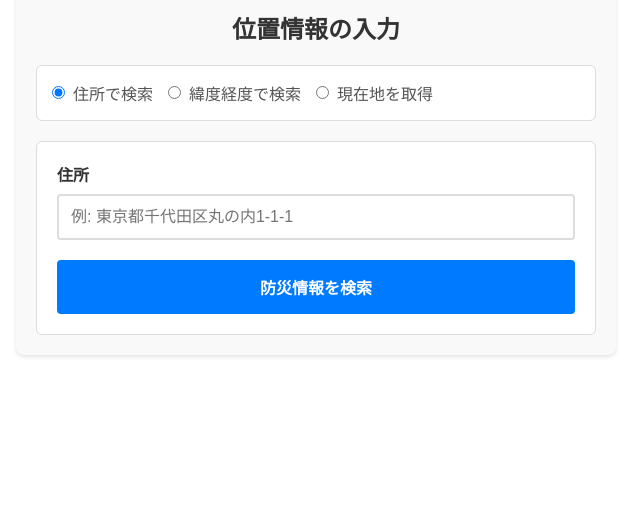
LocationInputComponent › 緯度経度入力のバリデーション › 無効な緯度でエラーメッセージが表示される
The width and height of the screenshot is (633, 522).
Click the radio button labelled "緯度経度で検索" at [174, 93], box [168,86,181,99]
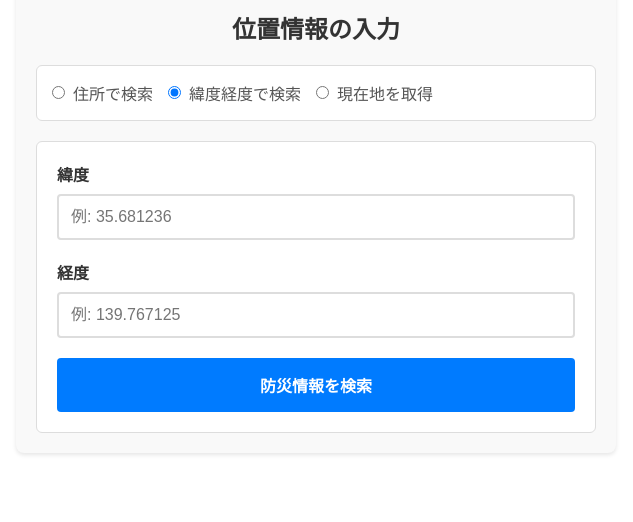
Type "100" into the number field labelled "緯度" at [316, 217], box [57,194,575,240]
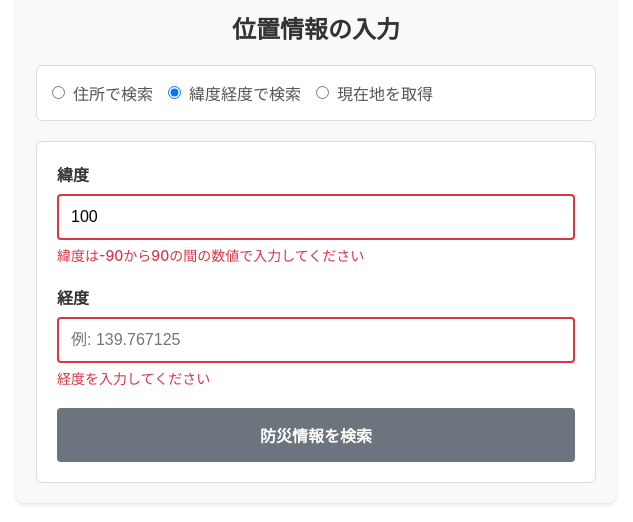
Result: the text "緯度は-90から90の間の数値で入力してください" is shown at [57,247,364,264]
